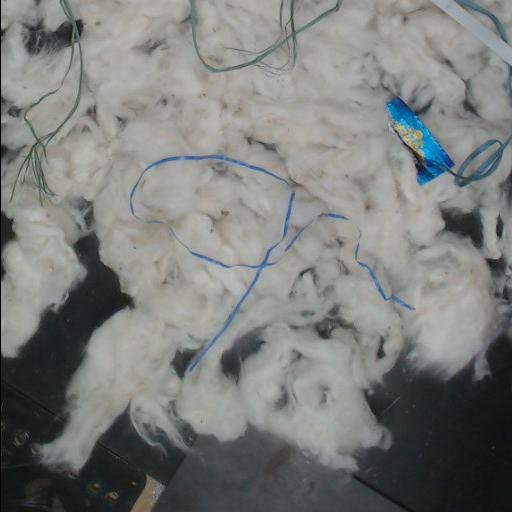cotton: (1, 0, 512, 472)
packet: (386, 97, 453, 183)
thread: (179, 189, 346, 372), (17, 9, 92, 200), (188, 0, 342, 73), (130, 156, 288, 198), (431, 0, 512, 66), (354, 236, 412, 310), (471, 19, 492, 44)
